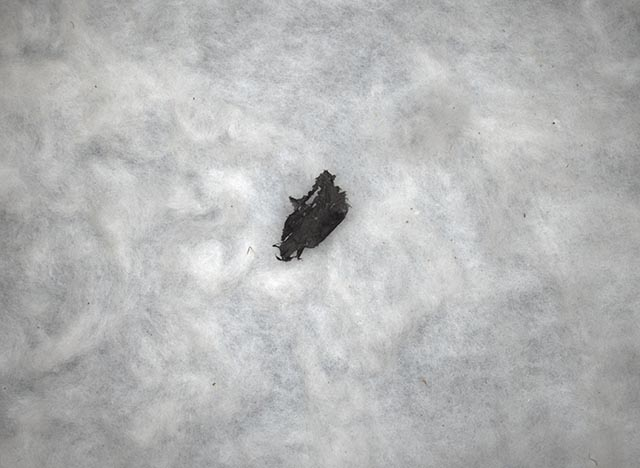plastic film: (272, 169, 353, 263)
